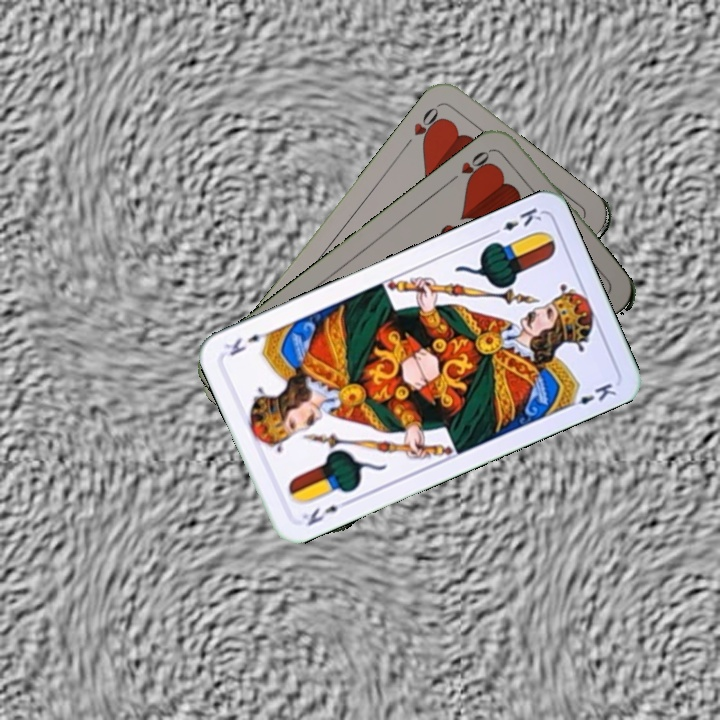EK: (486, 203, 545, 239), (298, 496, 352, 529)
HO: (399, 101, 447, 151), (446, 144, 497, 188)
